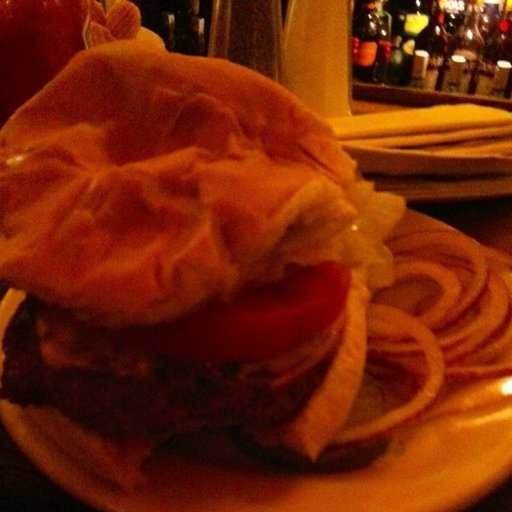hamburger: (9, 42, 444, 434)
